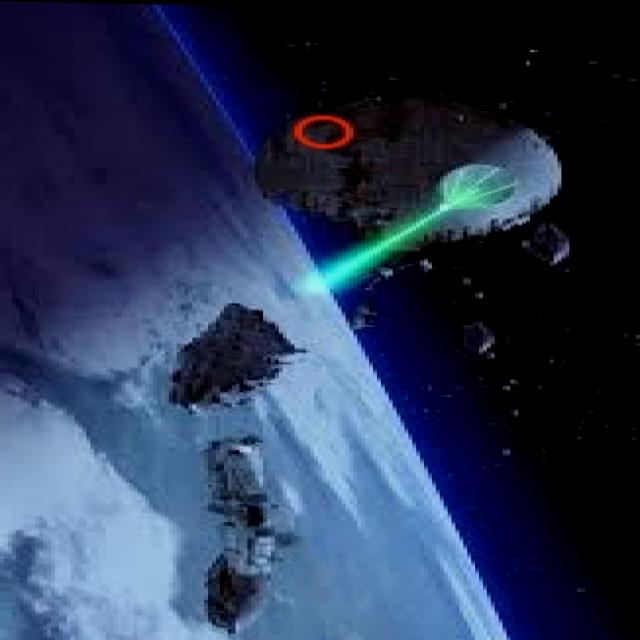deathStar: (252, 86, 564, 249)
